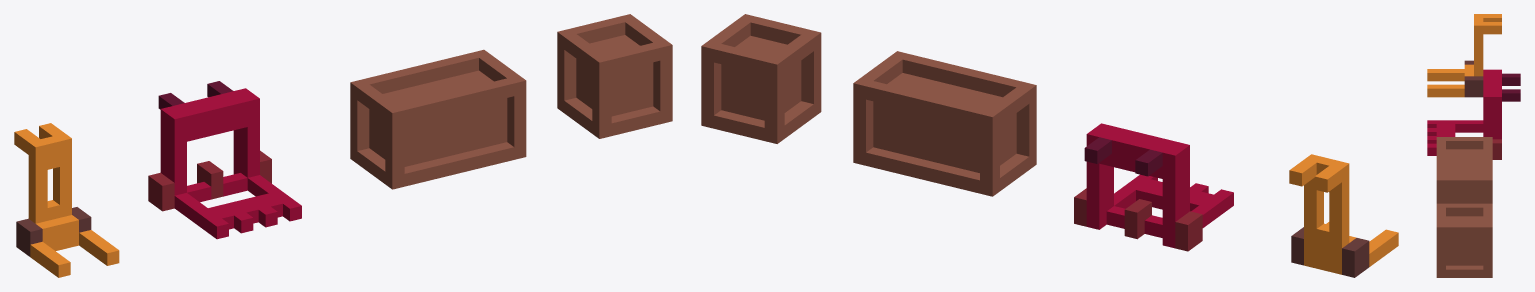
3 renders of one model, left to right at view 1: azimuth 30°, elevation 25°; view 2: azimuth 150°, elevation 25°; view 3: azimuth 270°, elevation 25°, orthographic. The views are drawn at different scales.
Parts seen in each view (by area): view 1: ObjObject.003; view 2: ObjObject.003; view 3: ObjObject.003.
Part boxes in pixels (box(x1,y1,x2,y2)): ObjObject.003: box(14, 14, 672, 277); ObjObject.003: box(701, 14, 1398, 277); ObjObject.003: box(1427, 14, 1520, 277).
Bounding box in the file's own units: 5.1 × 0.8 × 1.
1 material, 1 textured.
